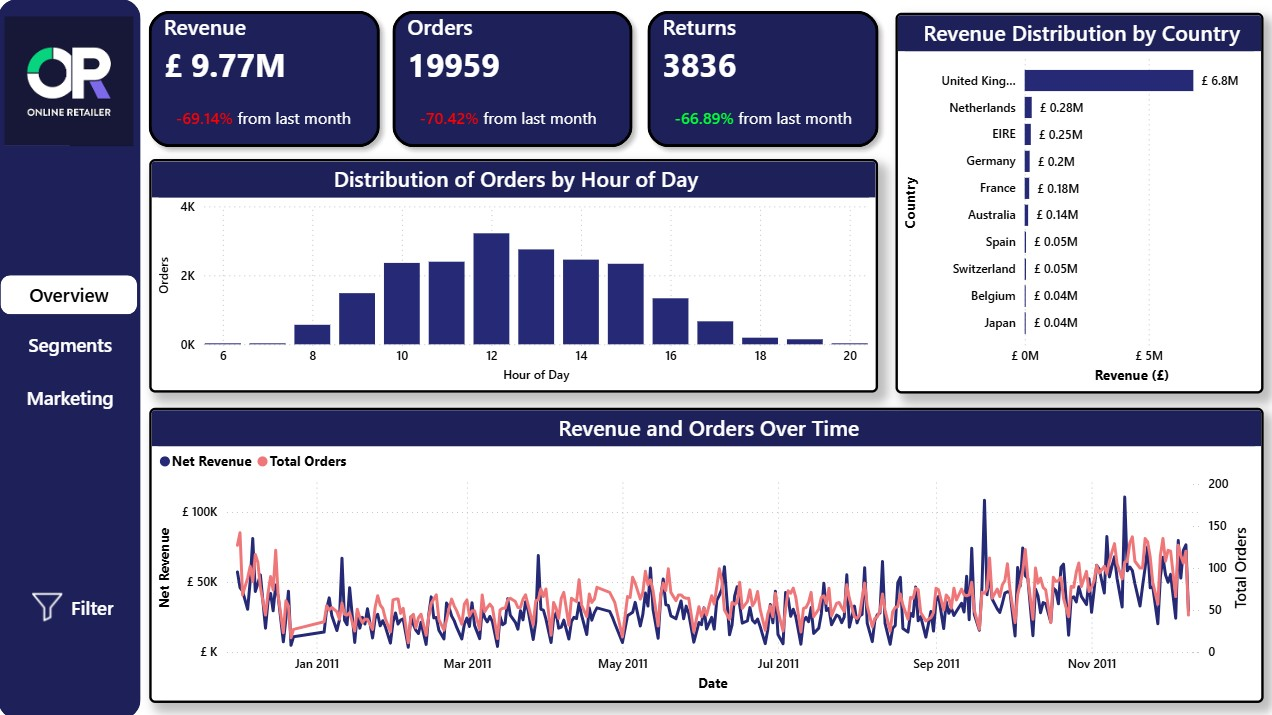

The page's visual inventory and layout, read from the dashboard file:
{"tool":"powerbi","page":{"name":"Overview","canvas":[1280,720],"ordinal":0},"visuals":[{"type":"cardVisual","fields":{"Data":["fact_returns.Total Returns"]},"box":[638,0,255.3,160.6],"z":0},{"type":"cardVisual","fields":{"Data":["fact_sales.Total Orders"]},"box":[383,0,264,160.1],"z":1000},{"type":"cardVisual","fields":{"Data":["fact_sales.Net Revenue"]},"box":[138.5,0,255,160.1],"z":2000},{"type":"shape","box":[0,0,142.6,720.3],"z":3000},{"type":"image","box":[2.4,18,136.6,129.4],"z":4000},{"type":"actionButton","box":[2.3,275.7,136.7,39.1],"z":5000},{"type":"lineChart","title":"Revenue and Orders Over Time","fields":{"Y":["fact_sales.Net Revenue"],"Category":["dim_date.Date.Variation.Date Hierarchy.Year"],"Y2":["fact_sales.Total Orders"]},"box":[151,408.7,1114.6,294.8],"z":6000},{"type":"clusteredBarChart","title":"Revenue Distribution by Country","fields":{"Y":["fact_sales.Net Revenue"],"Category":["dim_customer.Country"]},"box":[897.7,13.2,367.9,381.1],"z":7000},{"type":"clusteredColumnChart","title":"Distribution of Orders by Hour of Day","fields":{"Y":["fact_sales.Total Orders"],"Category":["fact_sales.Hour"]},"box":[151,160.6,728.7,233.7],"z":8000},{"type":"actionButton","box":[30,588.8,91.2,38.8],"z":10000},{"type":"actionButton","box":[3.4,326.2,136.7,39.1],"z":11000},{"type":"actionButton","box":[3.4,379.1,136.7,39.1],"z":13000}]}

Visuals, with their boxes in screenshot pixels (x1, y1, x2, y2), scaled from the page's 1280x720 canvas onto the 1272x715 screenshot:
cardVisual - fact_returns.Total Returns: left=634, top=0, right=888, bottom=159
cardVisual - fact_sales.Total Orders: left=381, top=0, right=643, bottom=159
cardVisual - fact_sales.Net Revenue: left=138, top=0, right=391, bottom=159
shape: left=0, top=0, right=142, bottom=714
image: left=2, top=18, right=138, bottom=146
actionButton: left=2, top=274, right=138, bottom=313
"Revenue and Orders Over Time" lineChart: left=150, top=406, right=1258, bottom=699
"Revenue Distribution by Country" clusteredBarChart: left=892, top=13, right=1258, bottom=392
"Distribution of Orders by Hour of Day" clusteredColumnChart: left=150, top=159, right=874, bottom=392
actionButton: left=30, top=585, right=120, bottom=623
actionButton: left=3, top=324, right=139, bottom=363
actionButton: left=3, top=376, right=139, bottom=415
